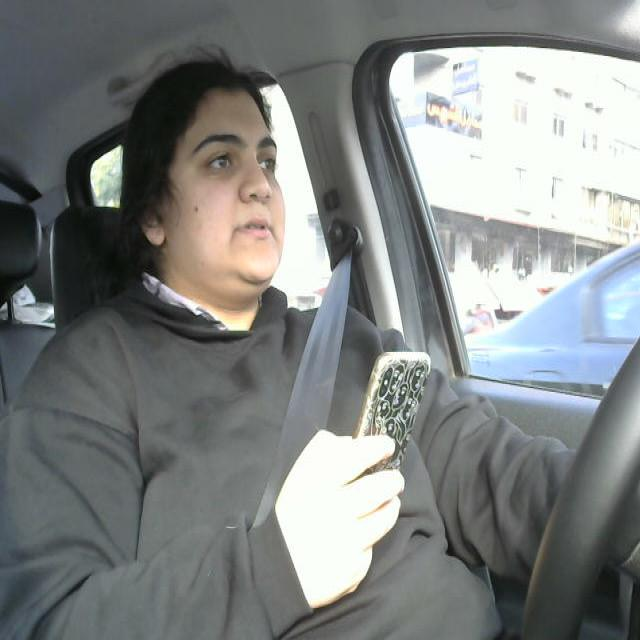mobile use: (352, 349, 428, 495)
